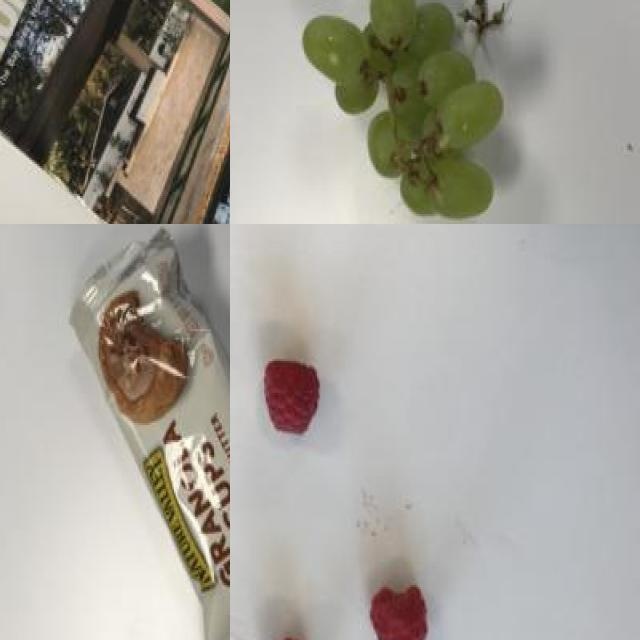compost: (301, 0, 526, 224), (256, 367, 436, 640)
paper: (0, 0, 230, 224)
trash: (51, 224, 230, 640)
